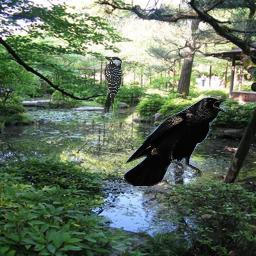Crow: (124, 96, 228, 186)
Woodpecker: (103, 55, 123, 114)
